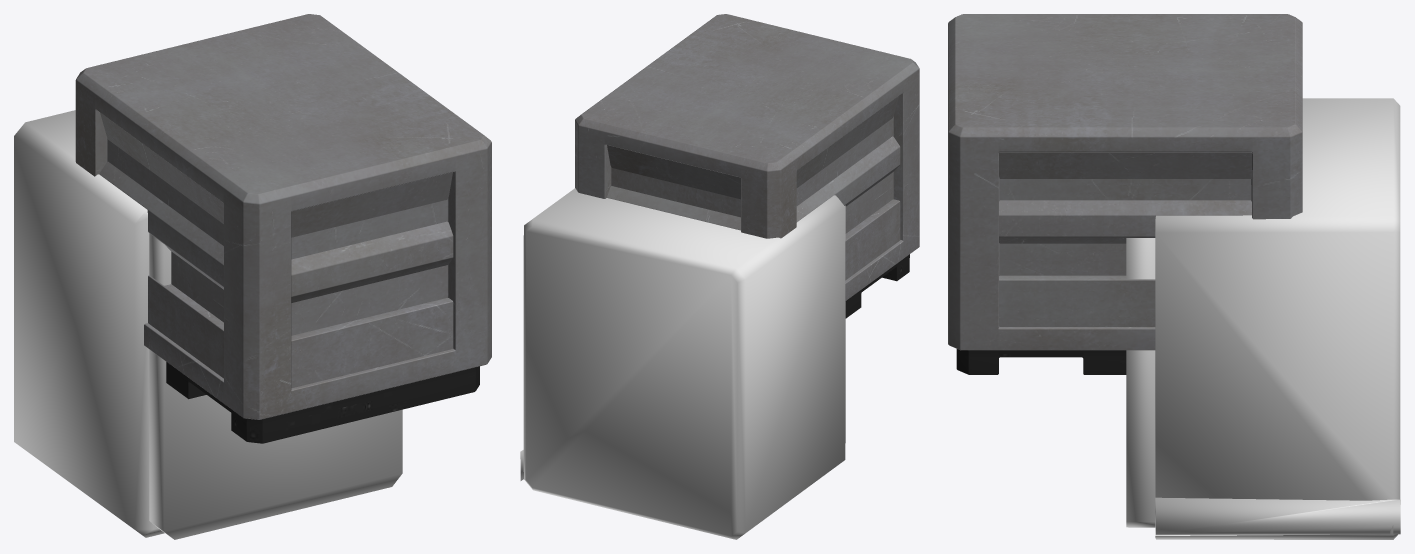
Rendered from SM_StorageBox_Warehouse.fbx.
The picture shows the model from 3 angles, left to right: view 1: azimuth 30°, elevation 25°; view 2: azimuth 150°, elevation 25°; view 3: azimuth 270°, elevation 25°; orthographic projection. The views are drawn at different scales.
Parts seen in each view (by area): view 1: SM_StorageBox_Warehouse, SM_StorageBox_Warehouse_ConvexHulls; view 2: SM_StorageBox_Warehouse_ConvexHulls, SM_StorageBox_Warehouse; view 3: SM_StorageBox_Warehouse, SM_StorageBox_Warehouse_ConvexHulls.
Part boxes in pixels (x1,y1,x2,y2): SM_StorageBox_Warehouse: [75, 14, 491, 443]; SM_StorageBox_Warehouse_ConvexHulls: [14, 110, 402, 539]; SM_StorageBox_Warehouse_ConvexHulls: [520, 188, 845, 539]; SM_StorageBox_Warehouse: [575, 14, 919, 318]; SM_StorageBox_Warehouse: [948, 14, 1302, 374]; SM_StorageBox_Warehouse_ConvexHulls: [1126, 98, 1400, 539].
Bounding box in the file's own units: 1.08 × 1.6 × 1.6.
